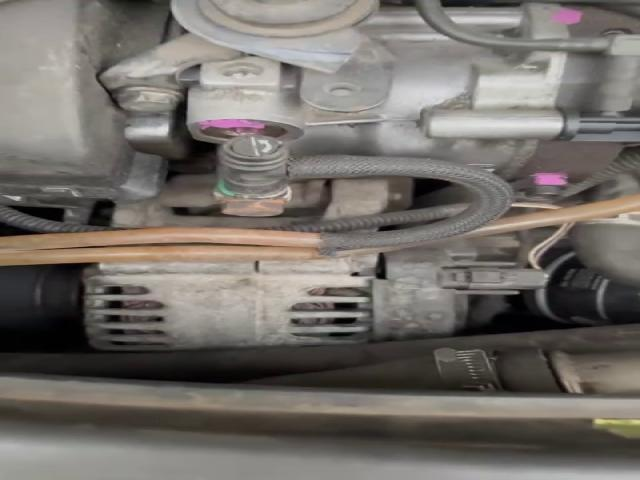alternator: (77, 231, 561, 351)
high_pressure_pump: (168, 3, 640, 198)
